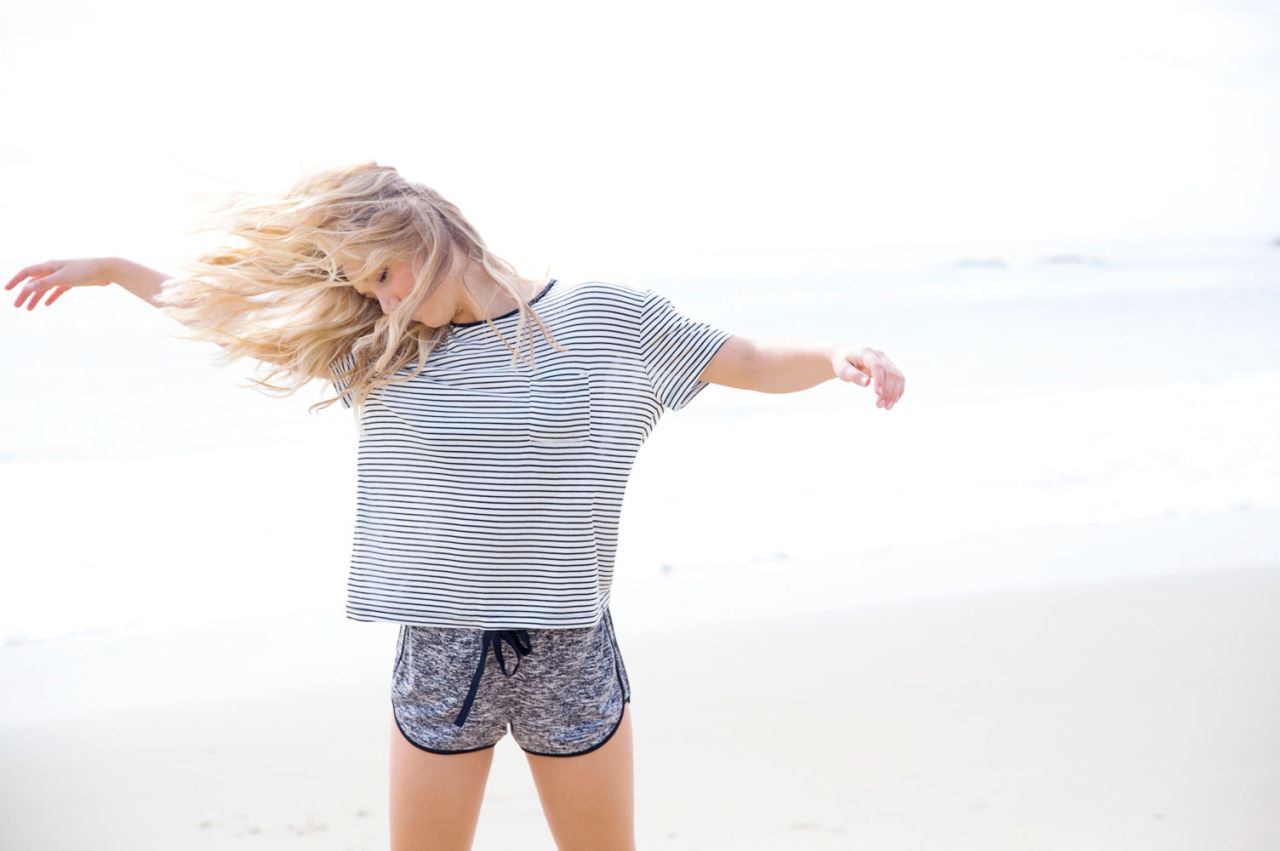Person: (2, 163, 917, 851)
